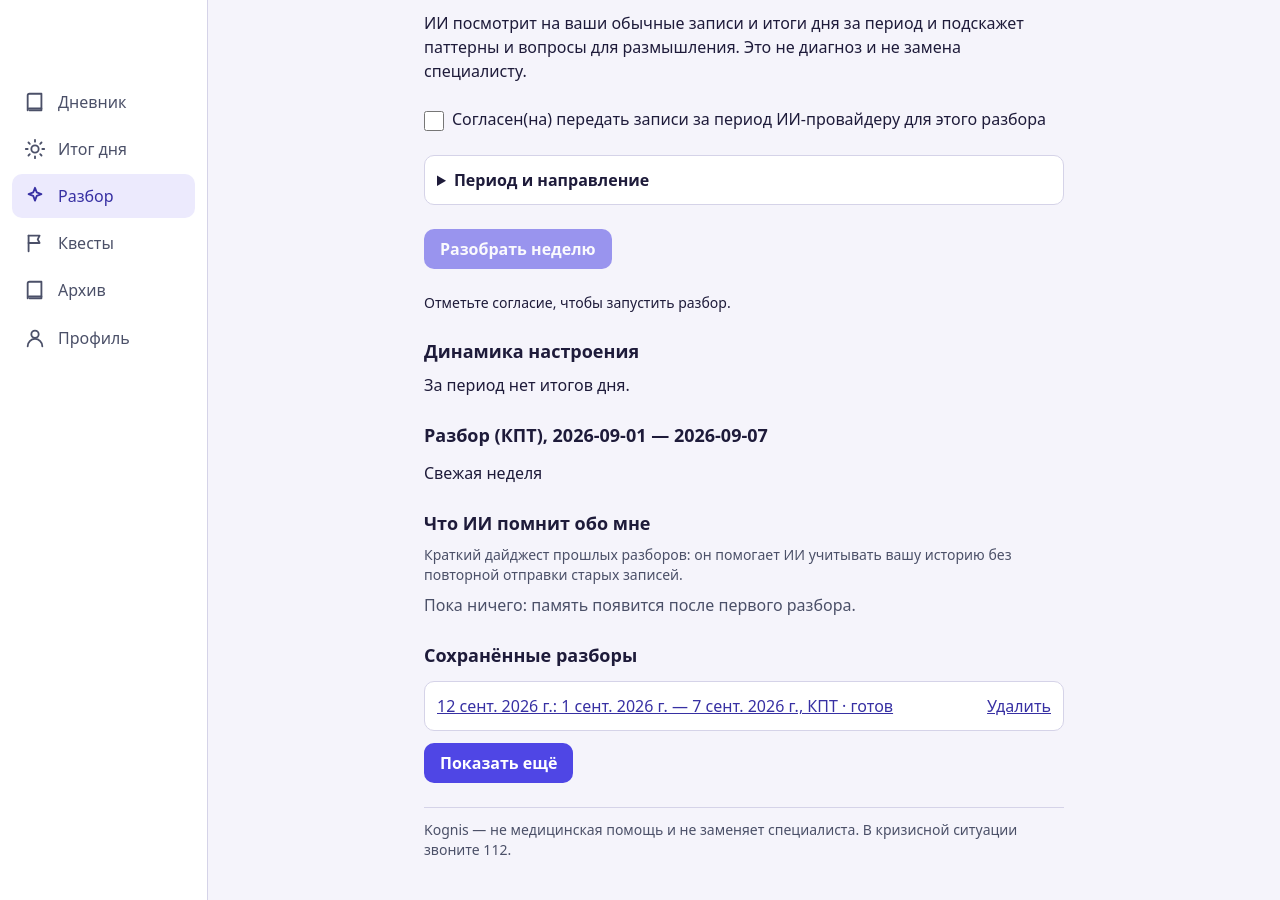
Test: «Показать ещё» дозагружает следующую страницу по смещению из заголовка
(page scrolled)
Expected: the number of list items with test id "analysis-history-item" is 1, [424, 681, 1064, 731]
Click the button with test id "more-analyses" at (499, 763), box [424, 743, 574, 783]
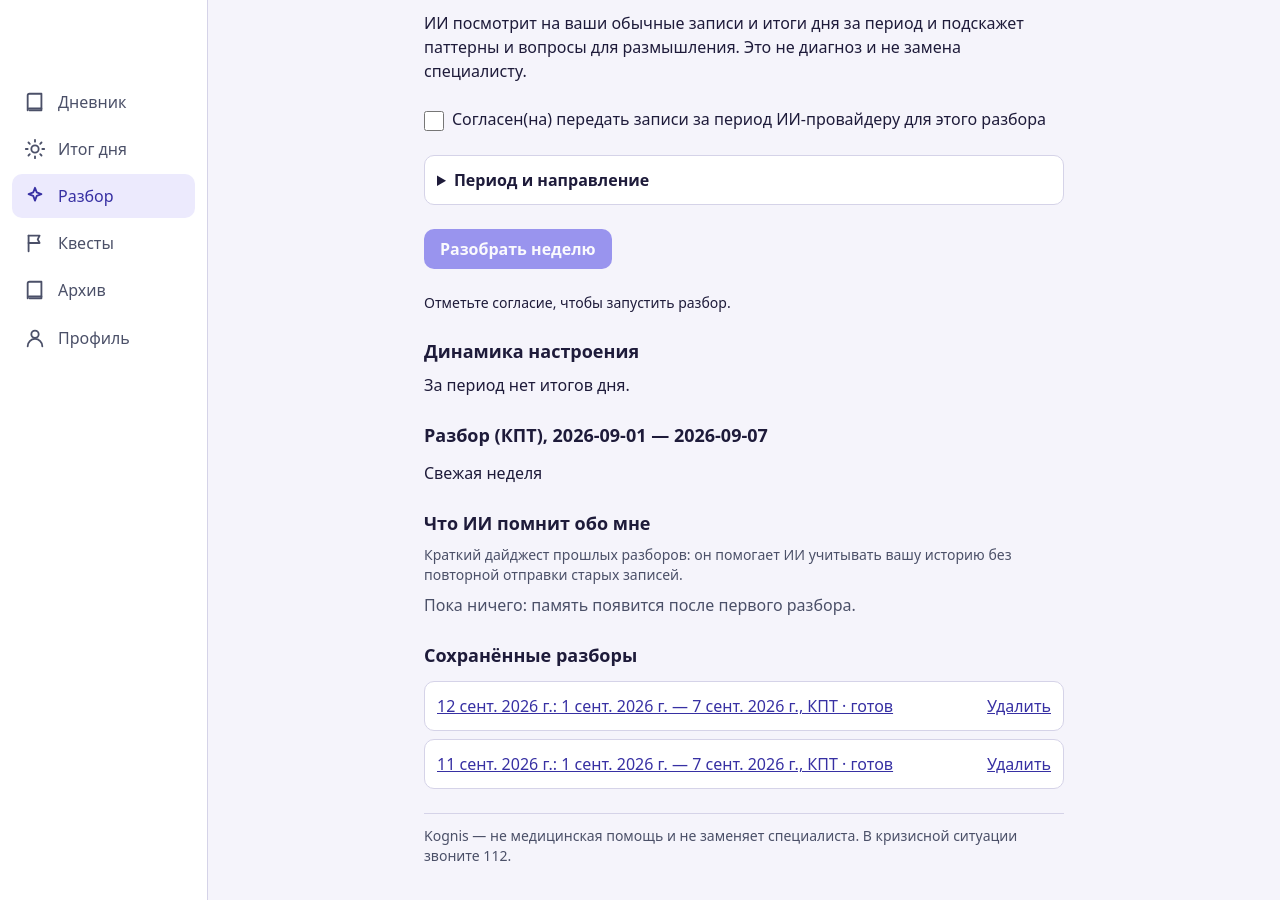
Expected: the number of list items with test id "analysis-history-item" is 2, [424, 681, 1064, 731]; [424, 739, 1064, 789]
Expected: the button with test id "more-analyses" is gone
